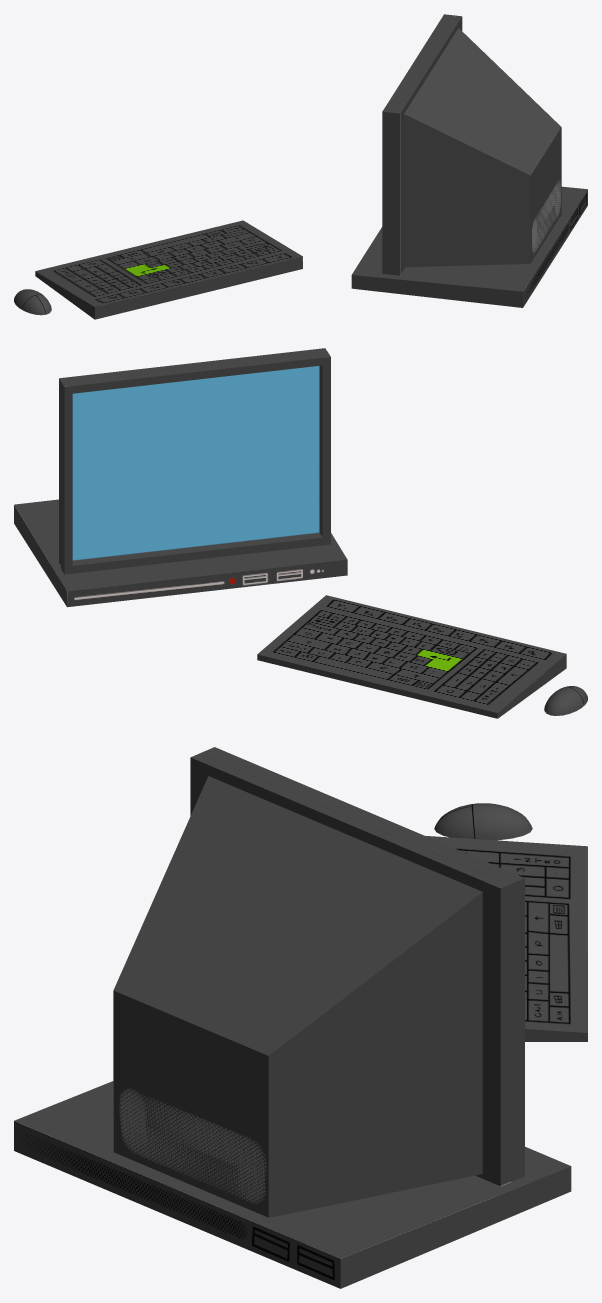
File: computadora.obj
3 renders of one model, top to bottom at view 1: azimuth 30°, elevation 25°; view 2: azimuth 150°, elevation 25°; view 3: azimuth 270°, elevation 25°, orthographic. The views are drawn at different scales.
Parts seen in each view (by area): view 1: pasted__polySurface174; view 2: pasted__polySurface174; view 3: pasted__polySurface174.
Part boxes in pixels (<box>): pasted__polySurface174: <box>14,14,587,319</box>; pasted__polySurface174: <box>14,348,587,718</box>; pasted__polySurface174: <box>14,747,587,1288</box>.
Size of the model in its own units: 1.67 by 0.5402 by 0.8514.
Materials: 4 (4 with a texture image).
